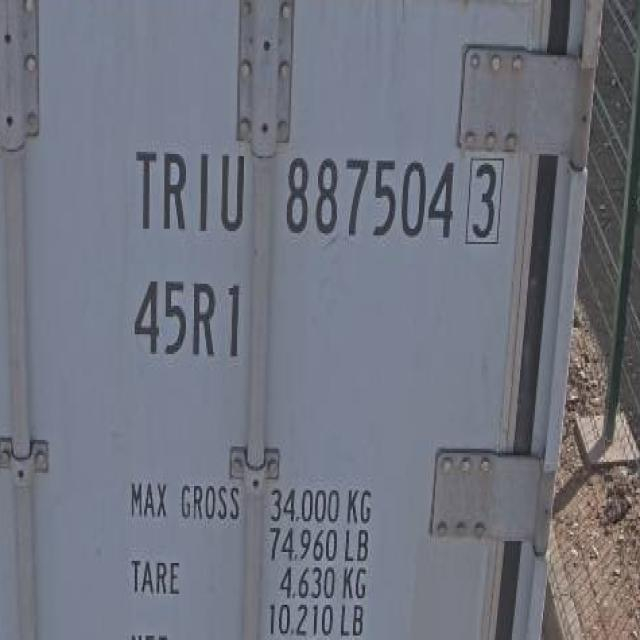dv: (464, 152, 508, 250)
owner: (131, 136, 246, 244)
serial: (283, 148, 458, 248)
size: (128, 273, 247, 372)
